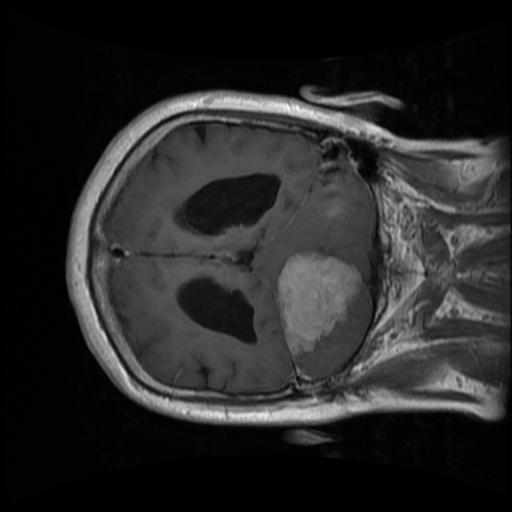meningioma: (277, 254, 362, 357)
